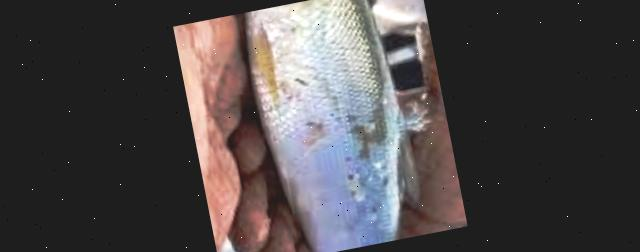Healthy Fish: (242, 0, 419, 252)
